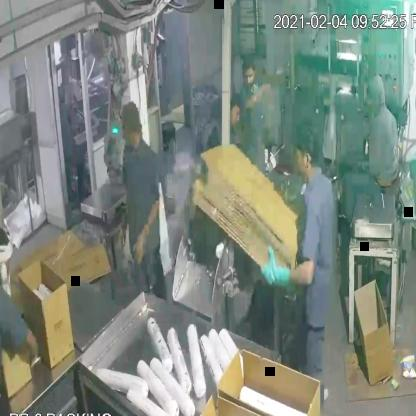glove: (254, 236, 296, 302)
no_glove: (128, 200, 168, 268), (10, 303, 39, 370), (242, 83, 276, 118)
